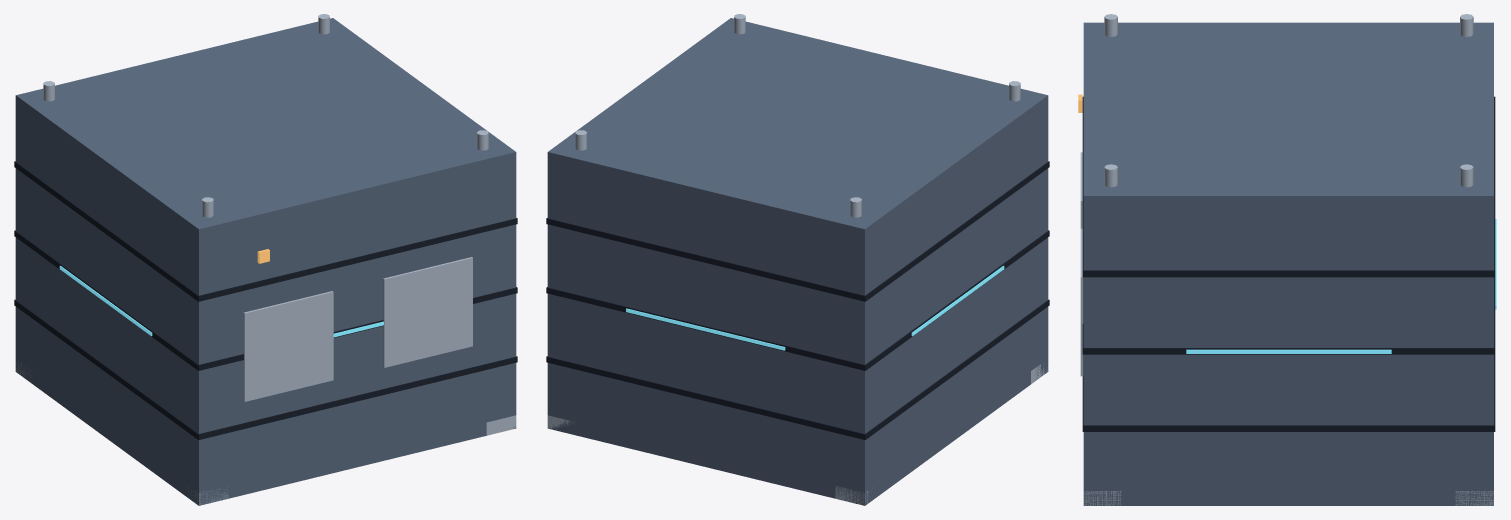
The model's file is cover-pod-cp07.glb.
3 views of the same model, side by side, from view 1: azimuth 30°, elevation 25°; view 2: azimuth 150°, elevation 25°; view 3: azimuth 270°, elevation 25° (orthographic). The views are drawn at different scales.
Visible parts, largest first — view 1: Body, cover-pod-merged (×3); view 2: Body, cover-pod-merged (×3); view 3: Body, cover-pod-merged (×3).
Boxes of the visible parts, bbox=[...] form: Body: bbox=[15, 18, 516, 505]; cover-pod-merged (×3): bbox=[14, 14, 517, 505]; Body: bbox=[547, 18, 1048, 505]; cover-pod-merged (×3): bbox=[546, 14, 1049, 505]; Body: bbox=[1083, 22, 1493, 505]; cover-pod-merged (×3): bbox=[1080, 14, 1496, 505].
Size of the model in its own units: 3.04 by 2.64 by 3.06.
